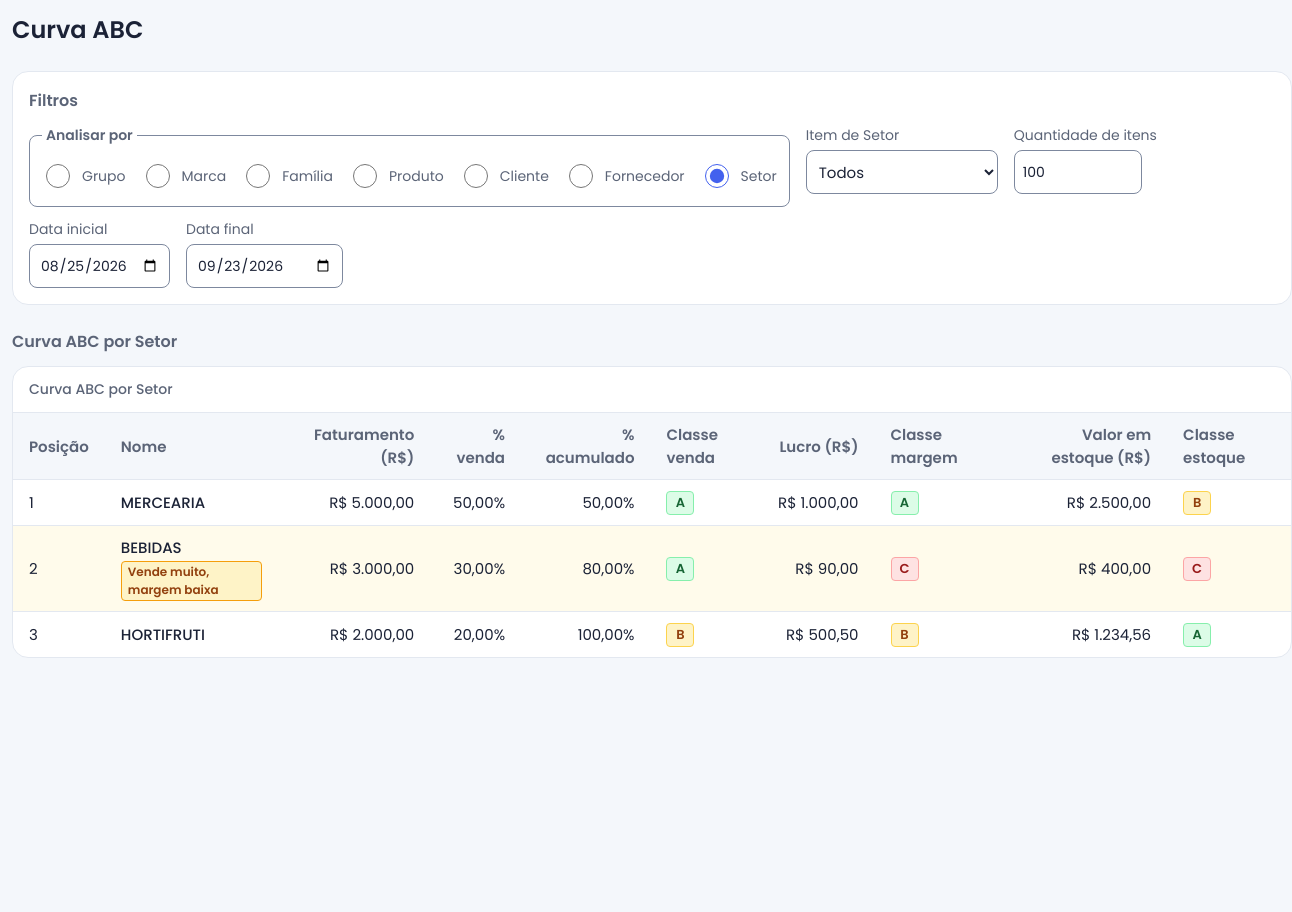
Scenario: CurvaAbcPage › trocar a dimensão volta o item para "Todos" e carrega a lista da nova dimensão
This screenshot has width=1292, height=912.
Select "HORTIFRUTI" in the dropdown labelled "Item de Setor" at (902, 172), box x1=806 y1=150 x2=998 y2=194
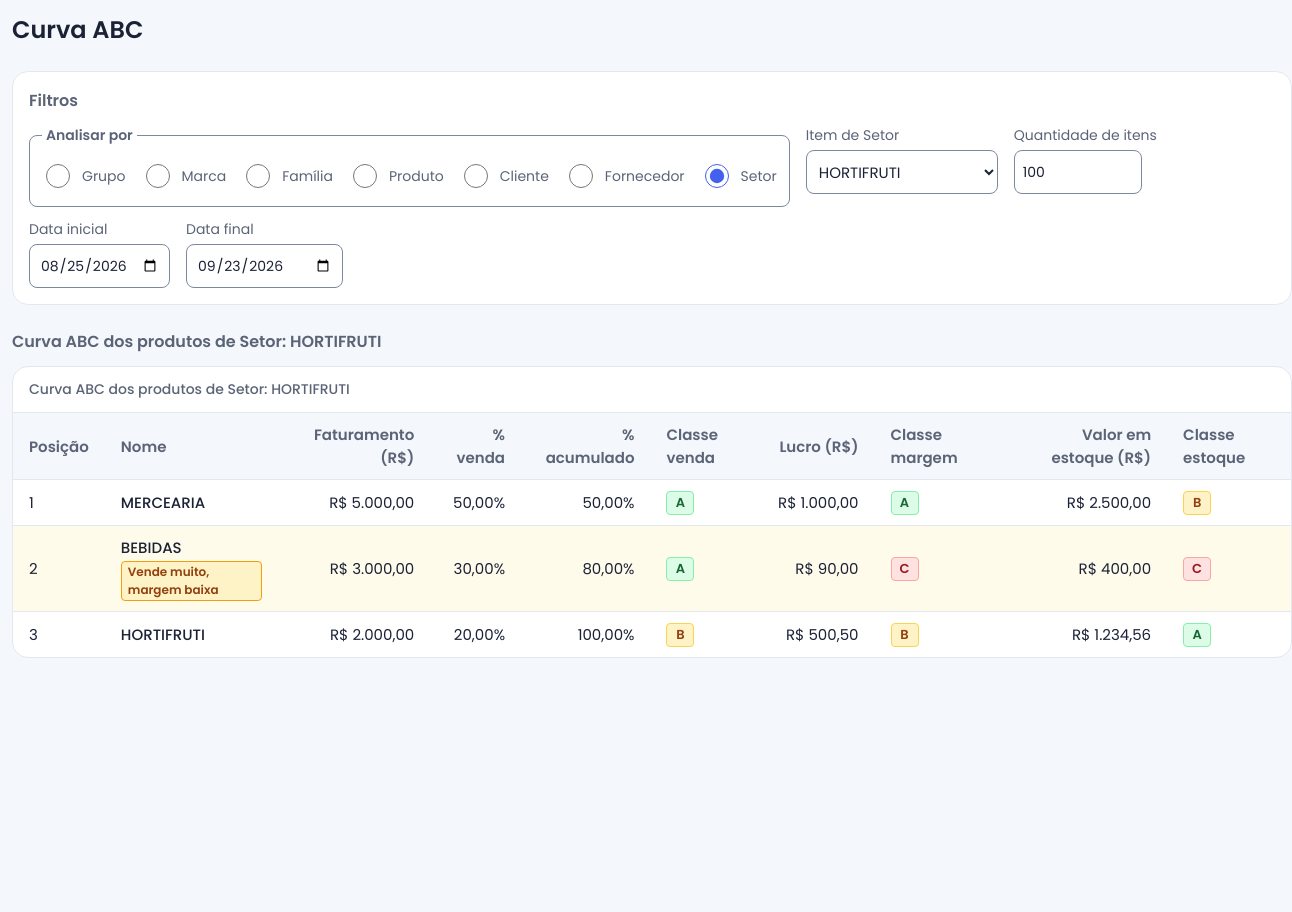
Click the radio button labelled "Marca" at (158, 176), box x1=146 y1=164 x2=170 y2=188
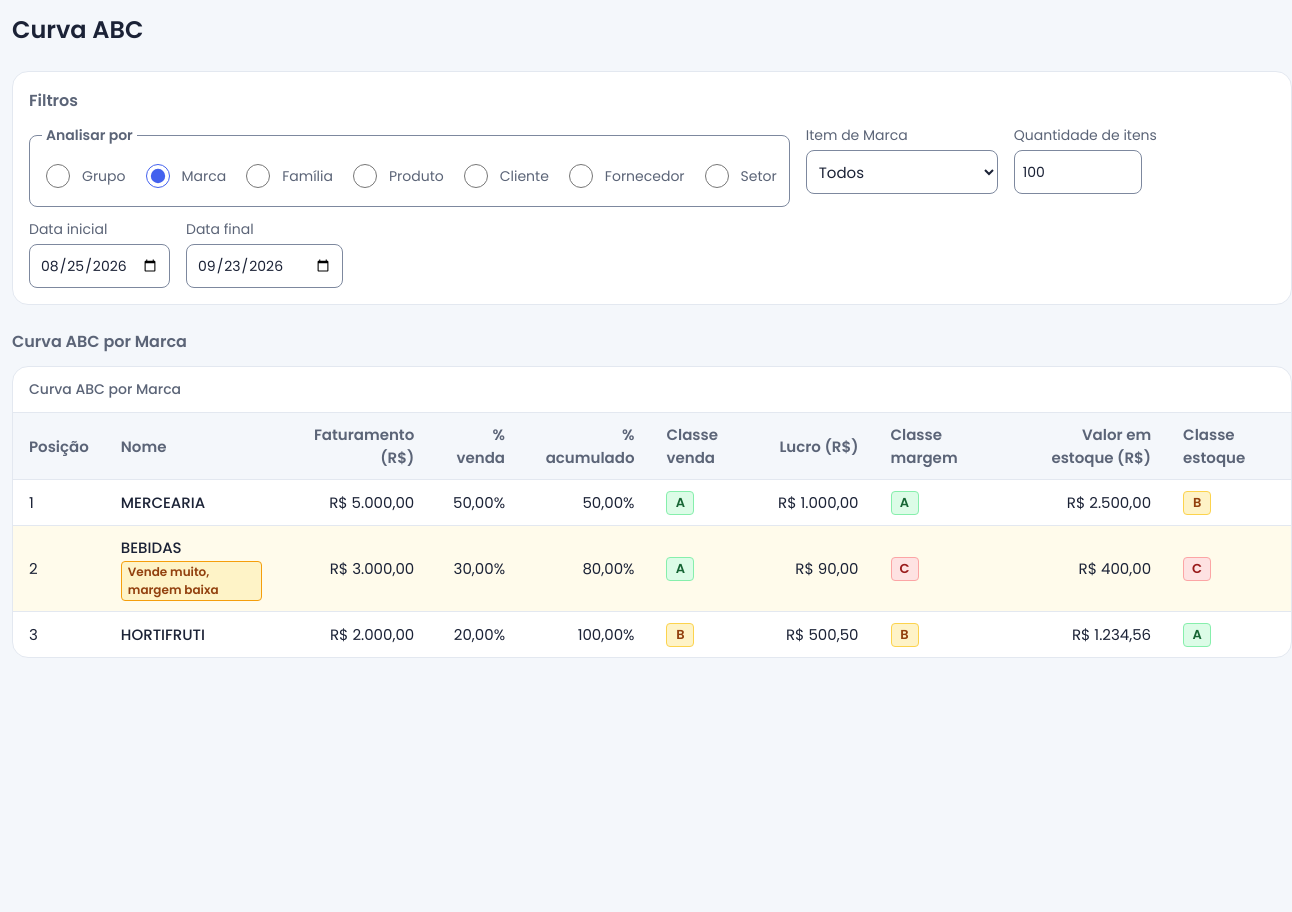
Check: the dropdown labelled "Item de Marca" shows "Todos", box x1=806 y1=150 x2=998 y2=194
